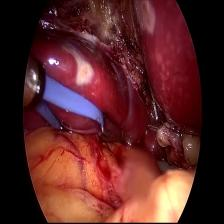Bipolar: (30, 55, 107, 152)
